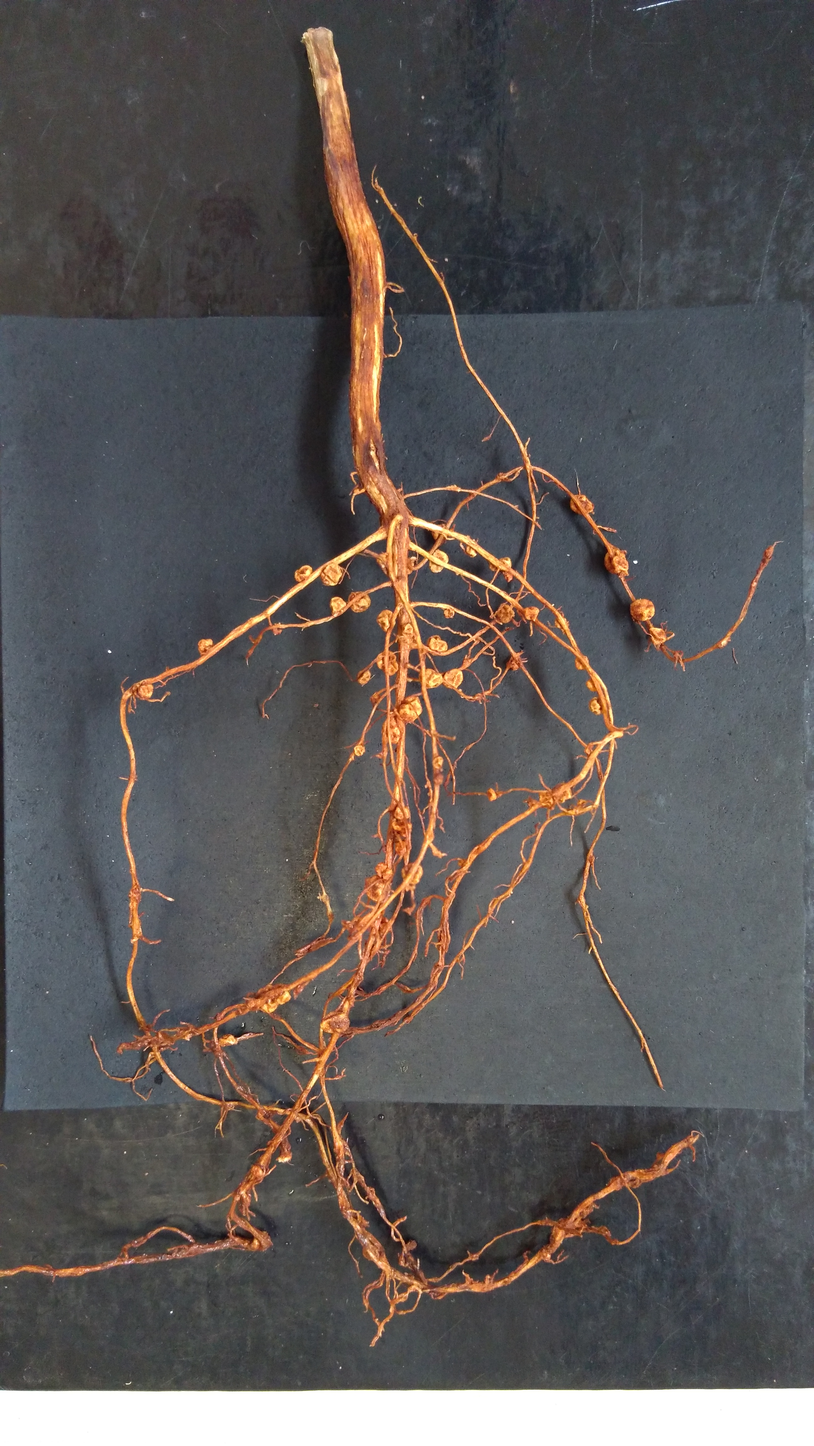nodule: (376, 549, 416, 576), (565, 492, 599, 519), (603, 548, 630, 578), (318, 1011, 351, 1034), (347, 588, 373, 617), (317, 559, 343, 587), (629, 597, 656, 623), (425, 547, 450, 575), (398, 695, 423, 722), (362, 875, 387, 902), (380, 715, 402, 745), (417, 667, 443, 690), (400, 862, 425, 885), (376, 650, 398, 676), (291, 562, 315, 583), (375, 608, 394, 634), (442, 667, 464, 689), (326, 596, 348, 617), (550, 782, 572, 803), (426, 634, 449, 653), (647, 626, 669, 645), (136, 683, 156, 702), (496, 603, 515, 622), (195, 637, 214, 655), (373, 862, 393, 879), (258, 999, 279, 1015), (539, 788, 555, 809), (430, 522, 447, 541), (587, 696, 603, 716), (523, 605, 540, 623), (574, 654, 591, 672), (362, 1244, 379, 1262), (218, 1032, 237, 1048), (464, 542, 480, 559), (356, 669, 372, 686), (585, 676, 599, 694), (277, 989, 292, 1005), (499, 554, 513, 570), (553, 616, 569, 630), (485, 787, 498, 803), (442, 607, 456, 621), (430, 755, 444, 769), (501, 569, 514, 583), (395, 841, 407, 855), (393, 805, 404, 820), (353, 745, 366, 757), (402, 623, 414, 635), (370, 692, 381, 705), (252, 1165, 263, 1178), (402, 805, 411, 820), (391, 821, 402, 831), (511, 661, 519, 672), (405, 822, 411, 830)
